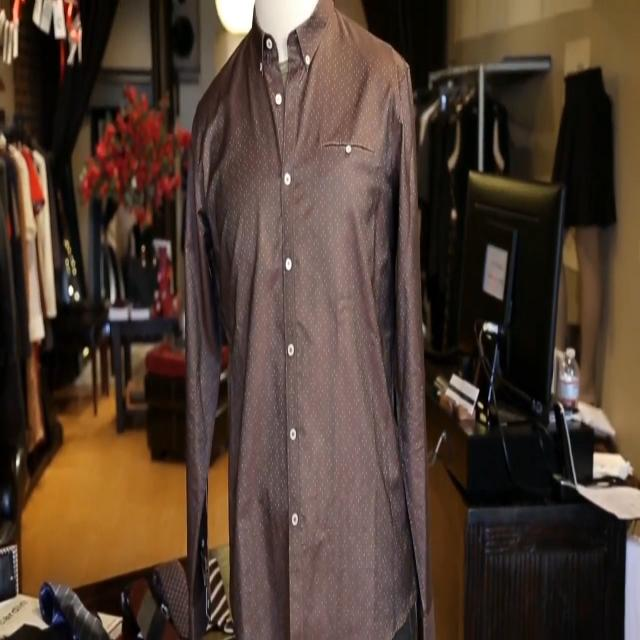Shirt: (184, 0, 434, 640)
